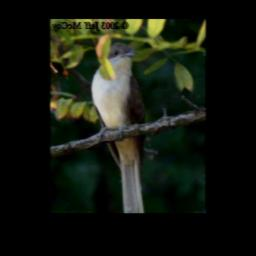Cuckoo: (91, 42, 149, 213)
